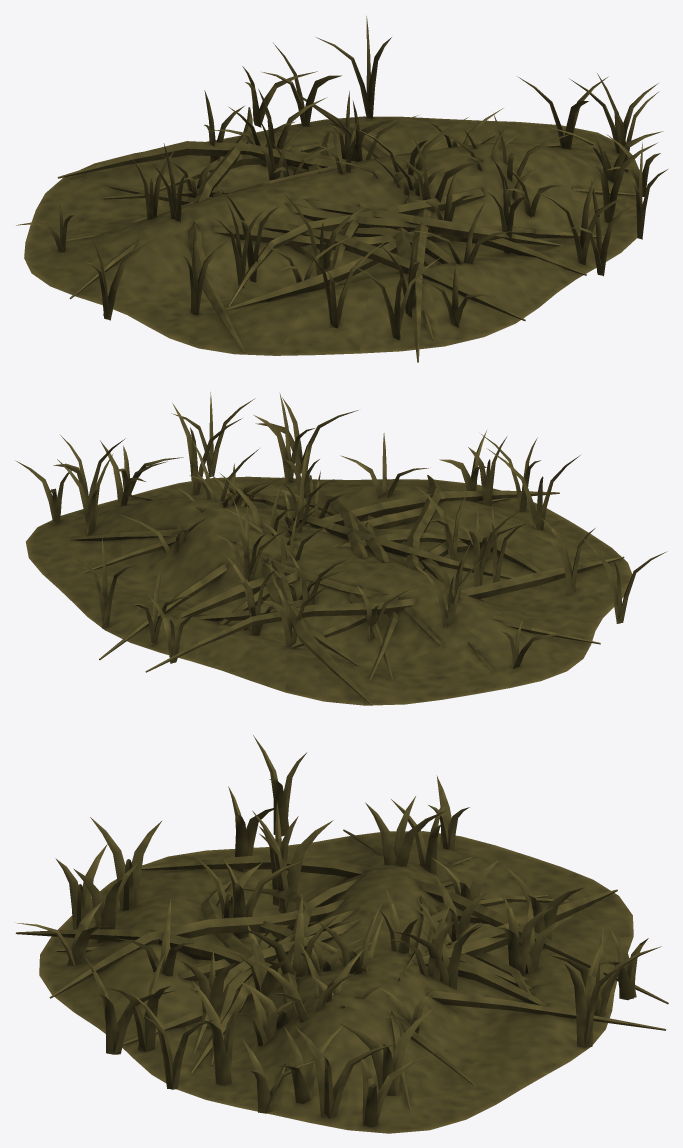
Rendered from underworld-ground-decay-peat-mat.glb.
3 views of the same model, one above another, from view 1: azimuth 30°, elevation 25°; view 2: azimuth 150°, elevation 25°; view 3: azimuth 270°, elevation 25° (orthographic). The views are drawn at different scales.
Visible parts, largest first — view 1: peat-bed, root-grass, woven-runners; view 2: peat-bed, root-grass, woven-runners; view 3: peat-bed, root-grass, woven-runners.
Boxes of the visible parts, bbox=[...] form: peat-bed: bbox=[24, 116, 637, 355]; root-grass: bbox=[16, 16, 667, 340]; woven-runners: bbox=[57, 97, 635, 362]; peat-bed: bbox=[26, 476, 632, 705]; root-grass: bbox=[15, 392, 667, 668]; woven-runners: bbox=[63, 475, 624, 705]; peat-bed: bbox=[39, 831, 633, 1133]; root-grass: bbox=[17, 735, 661, 1127]; woven-runners: bbox=[15, 829, 668, 1110].
Bounding box in the file's own units: 4.09 × 0.6271 × 3.39.
Materials: 1 (1 with a texture image).
